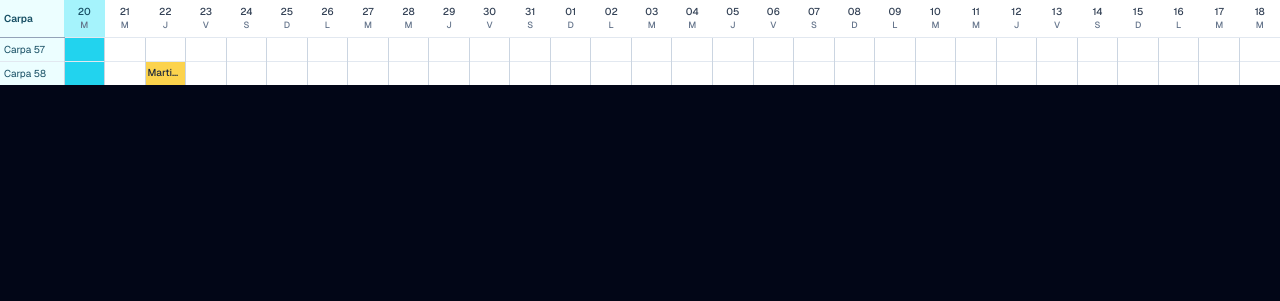
Test: calendario de ocupacion › al pasar el mouse por una reserva sale la tarjeta al instante
This screenshot has width=1280, height=301.
Hover over the cell "Martin Sosa" at (165, 73), box [145,61,186,84]
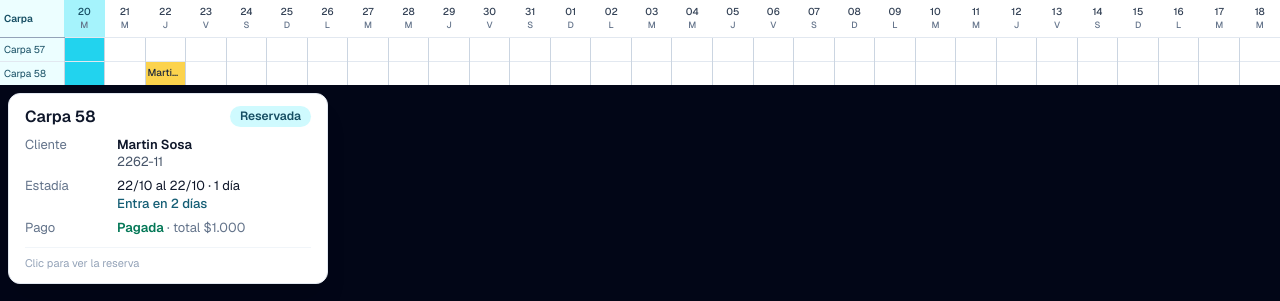
Check: the tooltip shows "Martin Sosa", box [117,136,192,152]
Check: the tooltip shows "Reservada", box [240,108,301,124]
Check: the tooltip shows "Entra en 2 días", box [117,195,207,212]
Move the pointer off the cell "Martin Sosa", box [145,61,186,84]
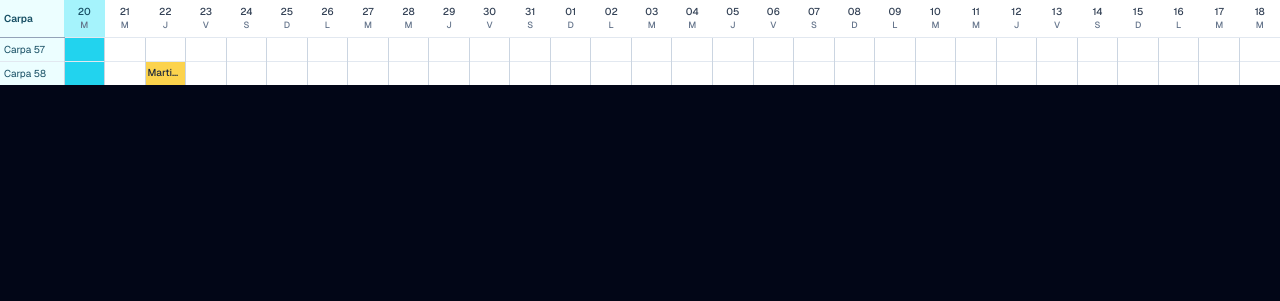
Check: the tooltip is gone
